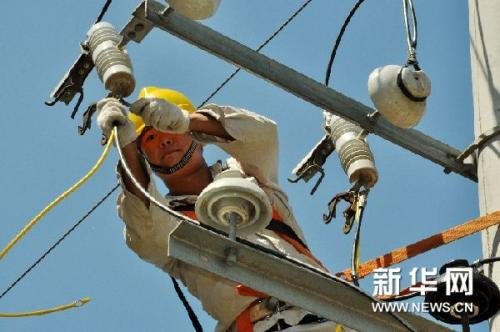helmet: (120, 84, 206, 170)
